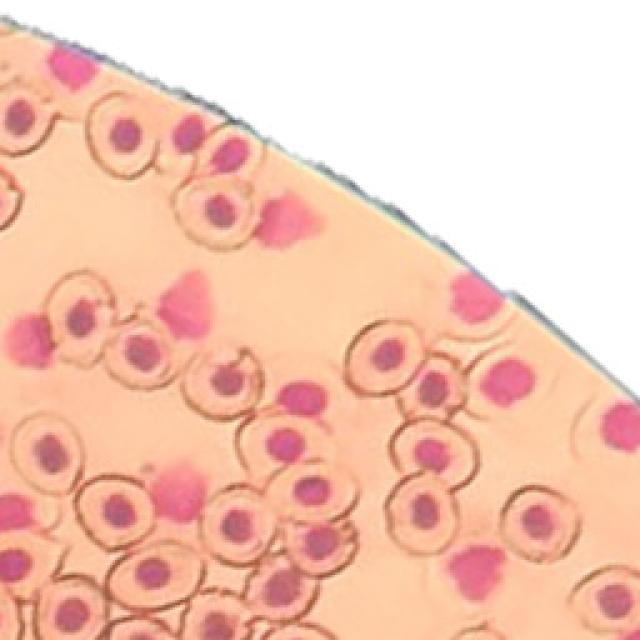RBC: (235, 407, 339, 489), (464, 339, 556, 424), (45, 270, 120, 369), (388, 418, 484, 494), (84, 90, 161, 182), (180, 343, 267, 422), (341, 318, 426, 398), (384, 471, 461, 559), (106, 540, 204, 609), (101, 310, 184, 391), (198, 484, 278, 568), (499, 486, 584, 564), (264, 458, 362, 524), (572, 389, 640, 479), (75, 475, 155, 550), (174, 176, 255, 249), (11, 414, 84, 494), (566, 563, 640, 636), (395, 350, 467, 422), (0, 530, 70, 604), (245, 555, 319, 621), (0, 78, 59, 158), (35, 576, 106, 640), (192, 123, 267, 180), (285, 520, 358, 576), (0, 476, 66, 534), (182, 591, 251, 640), (102, 617, 179, 640)
WBC: (158, 269, 210, 340), (255, 192, 319, 247), (151, 465, 206, 521), (449, 545, 505, 599), (451, 272, 504, 323), (8, 314, 55, 368), (49, 45, 99, 90), (276, 381, 328, 416), (172, 114, 205, 152)
